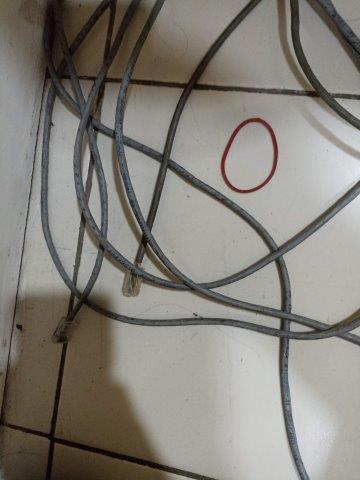karet: (221, 118, 278, 194)
